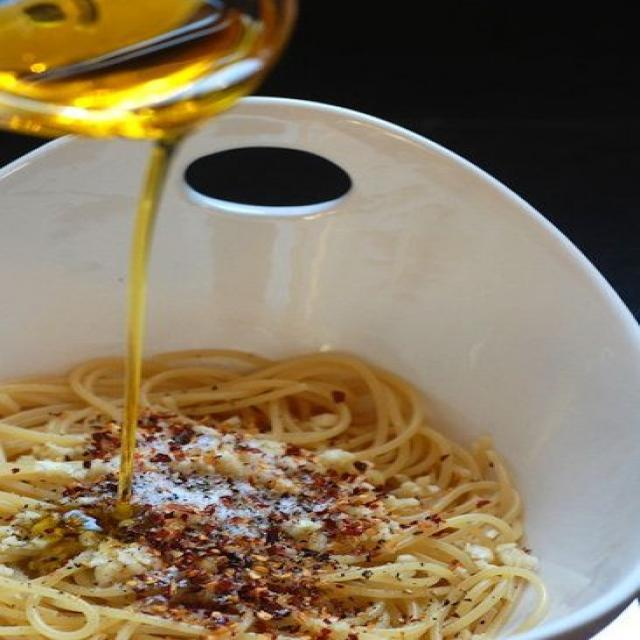Oil pasta: (16, 337, 525, 631)
